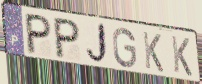G: (112, 26, 138, 69)
J: (84, 21, 110, 67)
K: (141, 30, 165, 74), (170, 34, 194, 78)
P: (54, 16, 82, 60), (26, 11, 53, 56)
